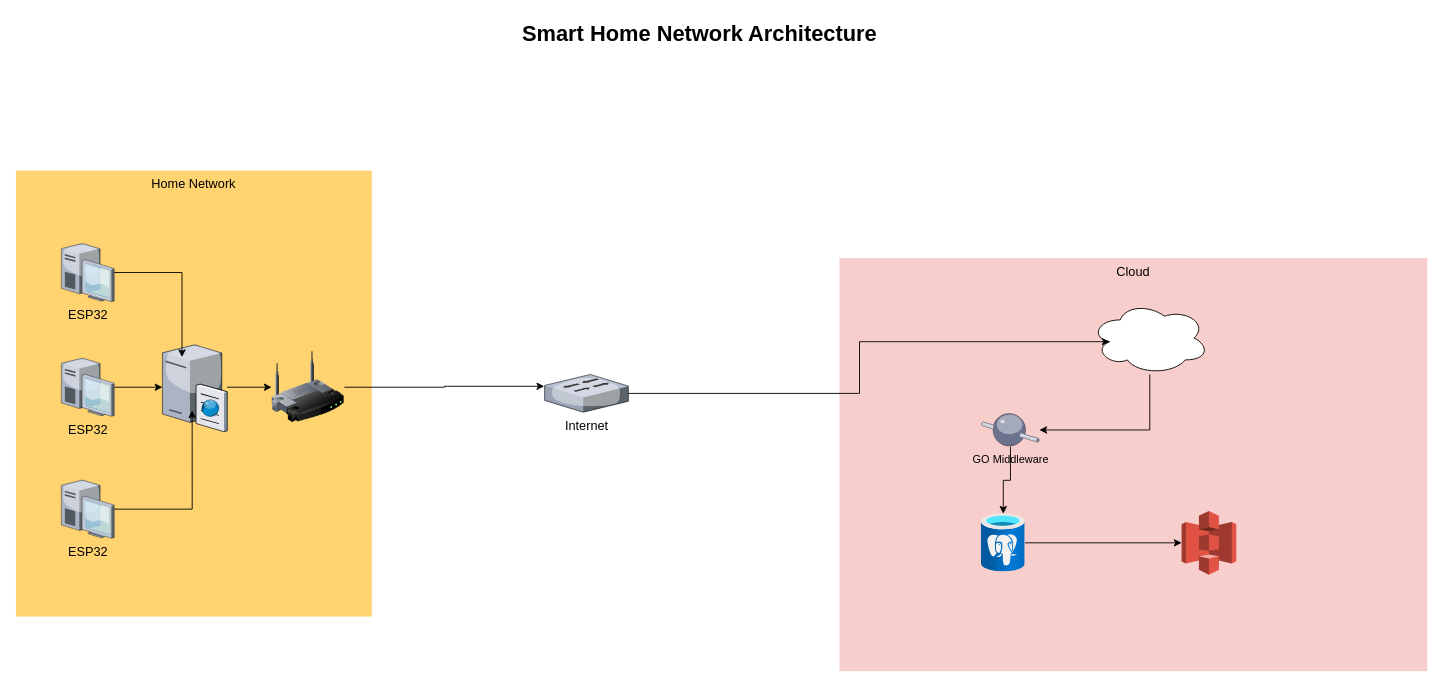
This 1442x686 diagram has some shape labels left out. Here are the shapes that lost their labels. From the top down, the box of each, then its label:
(162, 342, 227, 431): ESP32 Main
(981, 513, 1025, 571): PostgreSQL
(1181, 510, 1236, 575): S3
